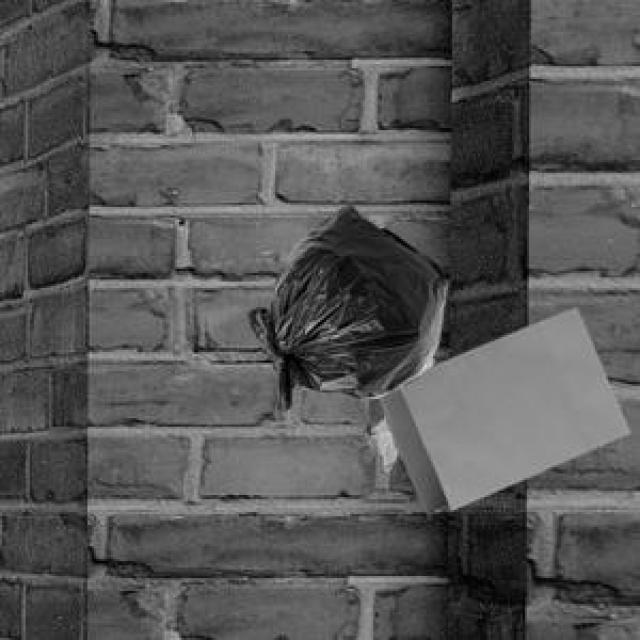miscellaneous trash: (243, 203, 444, 410)
paper: (376, 305, 625, 512)
